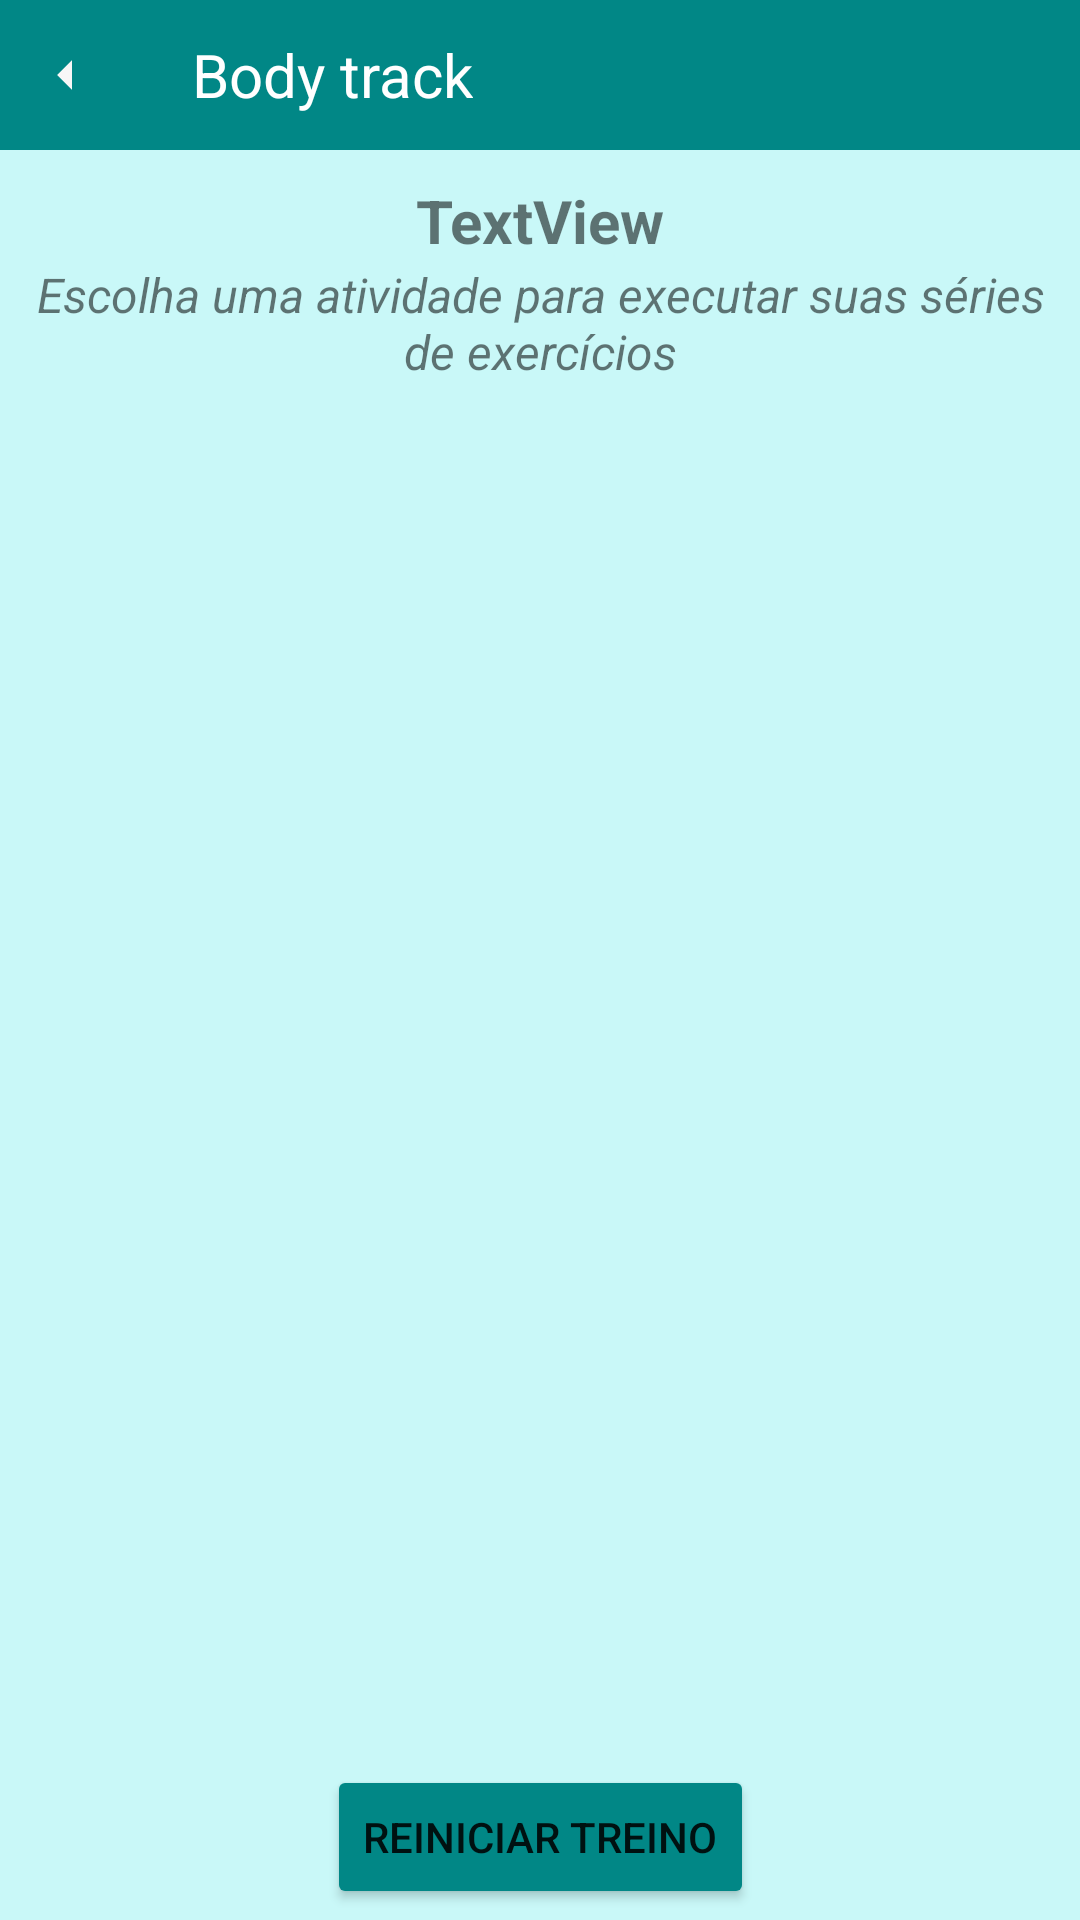

Icon bounding boxes for this 1080x1920 phone screenshot, format (x1, y1, x2, y2):
arrow left: (57, 60, 72, 90)
